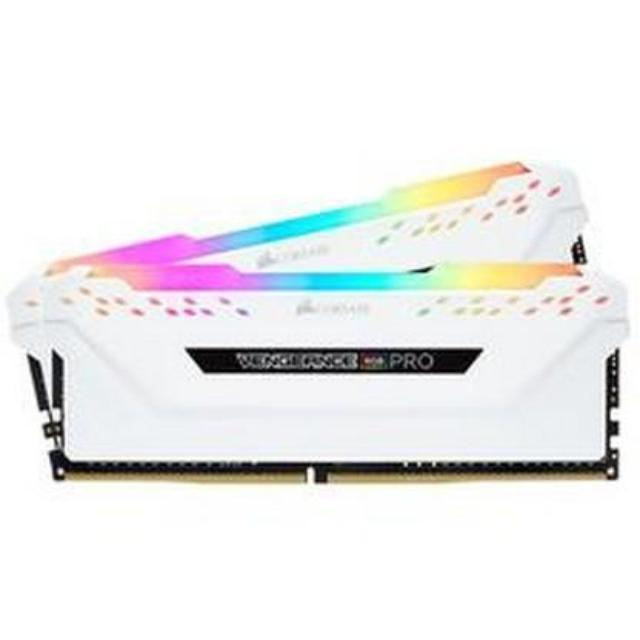RAM: (6, 148, 632, 504)
